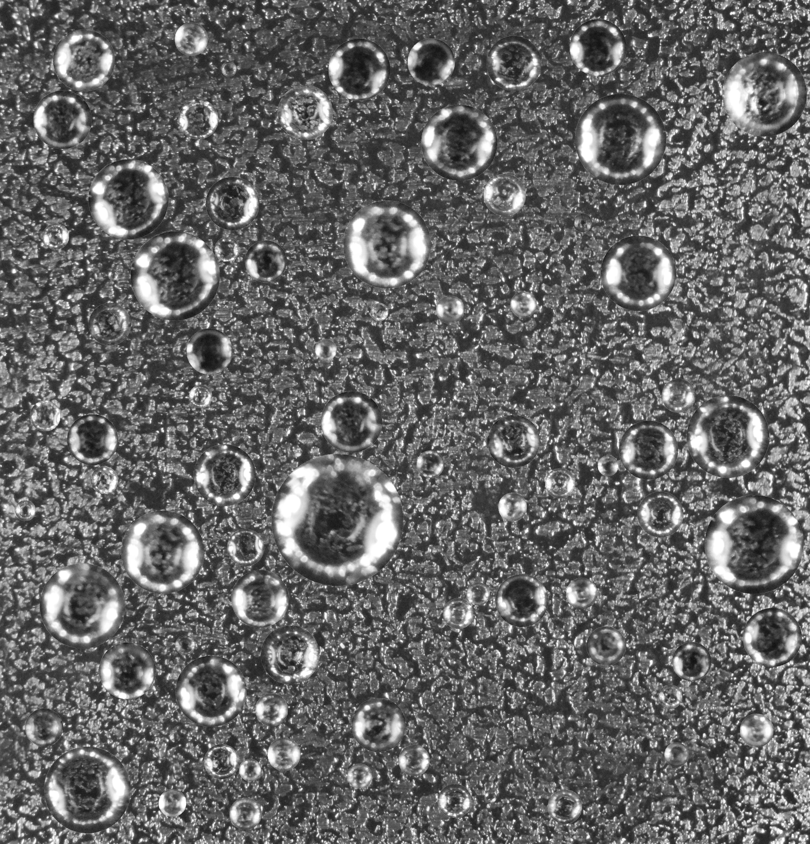Bubble: (271, 454, 403, 585), (704, 495, 803, 593), (575, 93, 666, 184), (130, 231, 219, 320), (343, 200, 430, 288), (44, 746, 130, 833), (39, 563, 124, 648), (722, 52, 806, 136), (121, 510, 204, 593), (686, 395, 769, 477), (88, 159, 168, 239), (421, 104, 497, 180), (600, 235, 676, 310), (175, 655, 246, 726), (193, 444, 255, 506), (328, 38, 390, 100), (53, 29, 114, 91), (320, 391, 382, 452), (260, 625, 319, 684), (619, 420, 678, 479), (33, 90, 91, 148), (743, 608, 801, 666), (231, 570, 288, 627), (569, 19, 626, 75), (99, 642, 155, 699), (486, 35, 541, 90), (277, 85, 332, 139), (351, 698, 405, 752), (205, 176, 259, 230), (495, 574, 548, 627), (487, 415, 540, 467), (67, 414, 117, 465), (407, 38, 454, 85), (186, 328, 232, 374), (637, 491, 683, 537), (244, 240, 286, 282), (88, 303, 130, 345), (483, 173, 525, 215), (178, 99, 218, 139), (672, 642, 711, 681), (586, 626, 625, 665), (25, 708, 62, 746), (227, 529, 264, 566), (204, 744, 239, 779), (547, 789, 582, 823), (661, 378, 695, 412), (740, 713, 773, 747), (437, 784, 471, 817), (174, 22, 207, 55), (267, 738, 300, 770), (255, 693, 287, 726), (229, 797, 261, 829), (398, 745, 429, 776), (566, 578, 597, 609), (29, 400, 60, 431), (545, 468, 575, 498), (443, 598, 473, 628), (498, 492, 526, 521), (436, 295, 464, 323), (416, 450, 444, 477), (158, 789, 186, 816), (90, 466, 117, 493), (42, 223, 68, 249), (510, 291, 536, 317), (347, 763, 372, 788), (214, 237, 239, 261), (664, 742, 688, 766), (658, 684, 682, 708), (189, 385, 212, 408), (466, 582, 489, 605), (239, 759, 261, 781), (315, 339, 336, 360), (597, 455, 618, 476), (15, 500, 35, 520), (175, 635, 194, 654), (573, 213, 592, 232), (370, 303, 388, 320), (221, 61, 236, 76), (484, 791, 496, 803), (108, 270, 118, 280)
